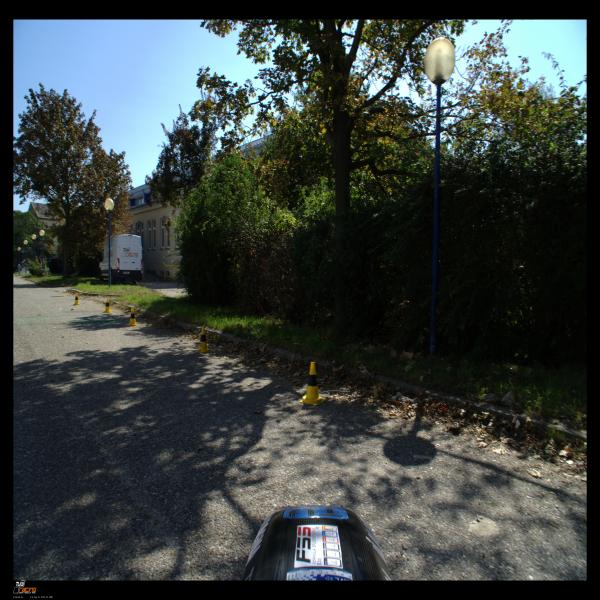yellow_cone: (298, 362, 326, 406), (195, 326, 212, 353), (127, 308, 139, 326), (103, 298, 112, 312), (72, 293, 80, 305)
